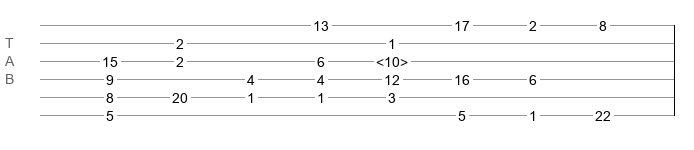1: (247, 90, 255, 100), (317, 90, 325, 100), (388, 36, 396, 46), (529, 108, 537, 118)
12: (384, 72, 400, 82)
13: (313, 18, 329, 28)
15: (102, 54, 118, 64)
16: (454, 72, 470, 82)
17: (454, 18, 470, 28)
2: (176, 36, 184, 46), (176, 54, 184, 64), (529, 18, 537, 28)
20: (172, 90, 188, 100)
22: (595, 108, 611, 118)
3: (388, 90, 396, 100)
4: (247, 72, 255, 82), (317, 72, 325, 82)
5: (106, 108, 114, 118), (458, 108, 466, 118)
6: (317, 54, 325, 64), (529, 72, 537, 82)
8: (106, 90, 114, 100), (599, 18, 607, 28)
9: (106, 72, 114, 82)
harmonic: (376, 54, 408, 64)
